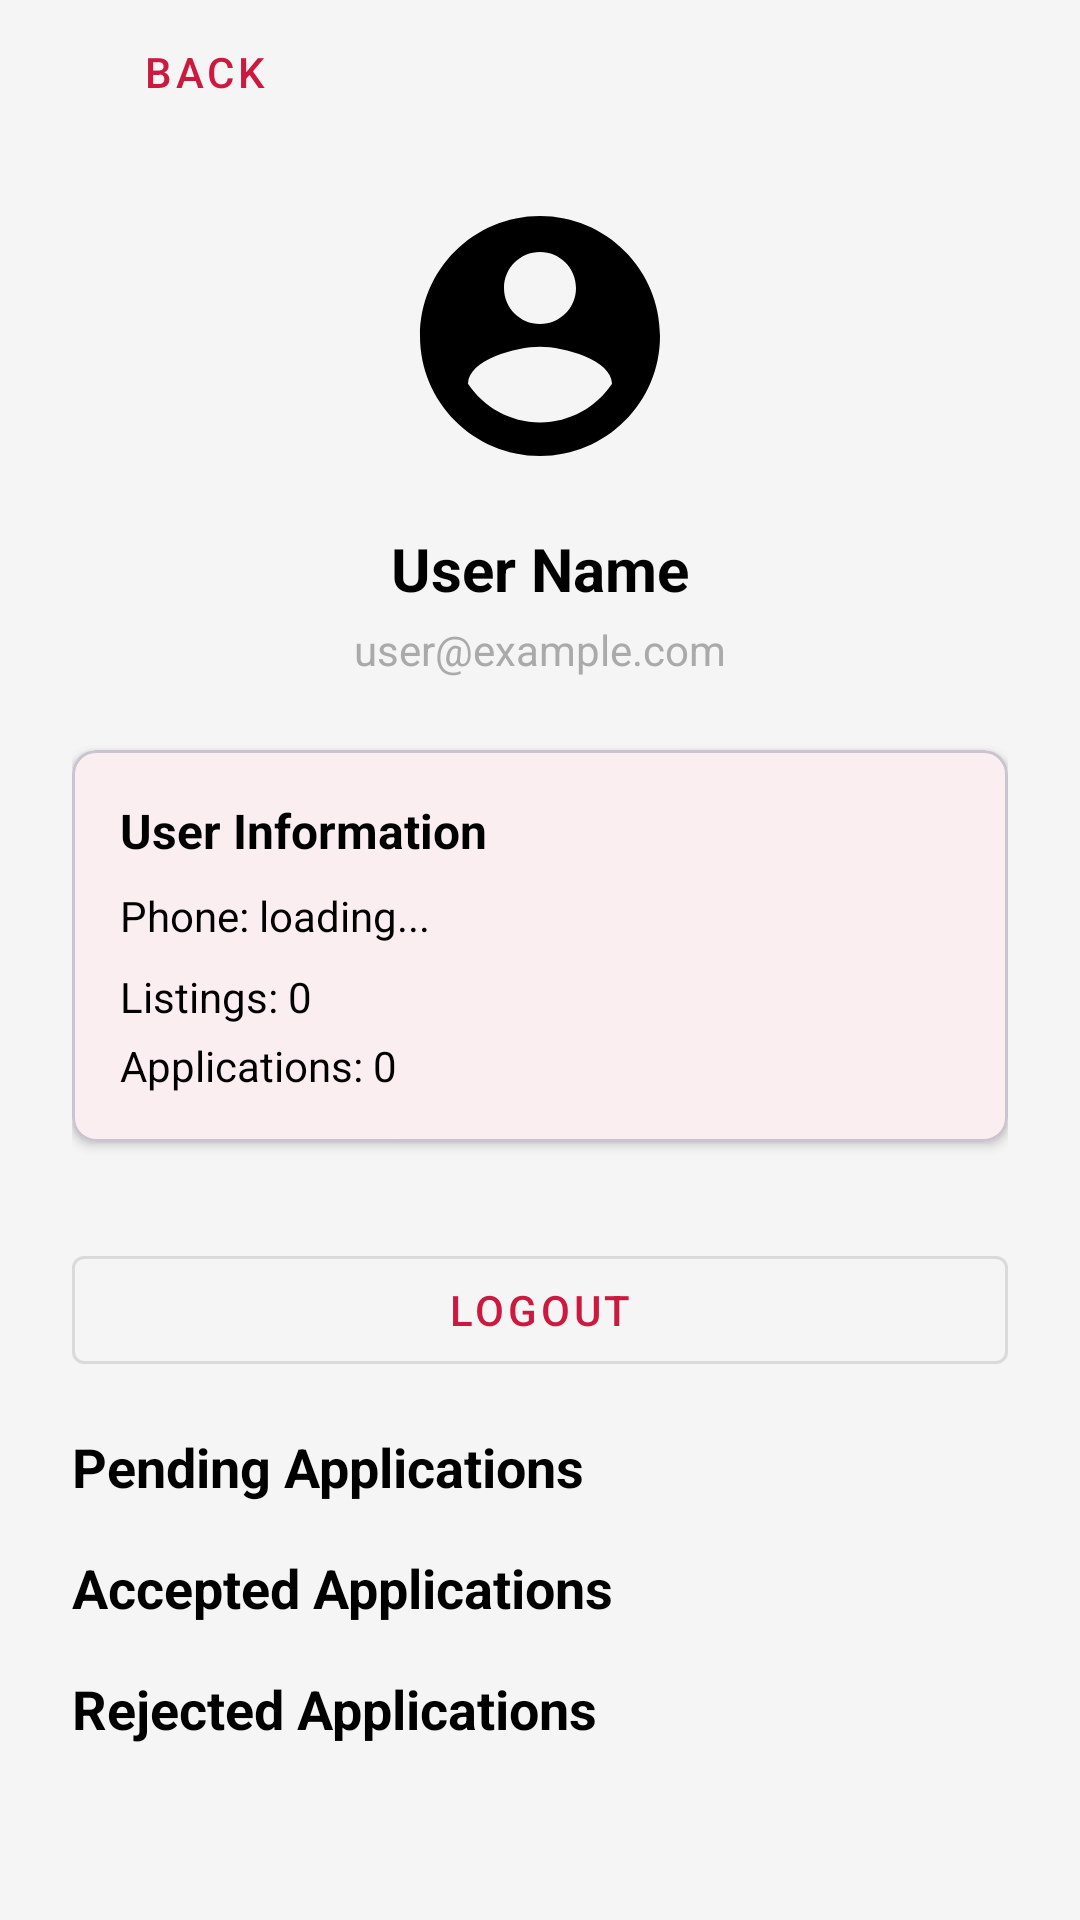

Icons on this 1080px×1920px Android screen, each with its box as bbox=[x1, y1, x2, y2]:
Profile icon: bbox=[420, 216, 660, 456]
